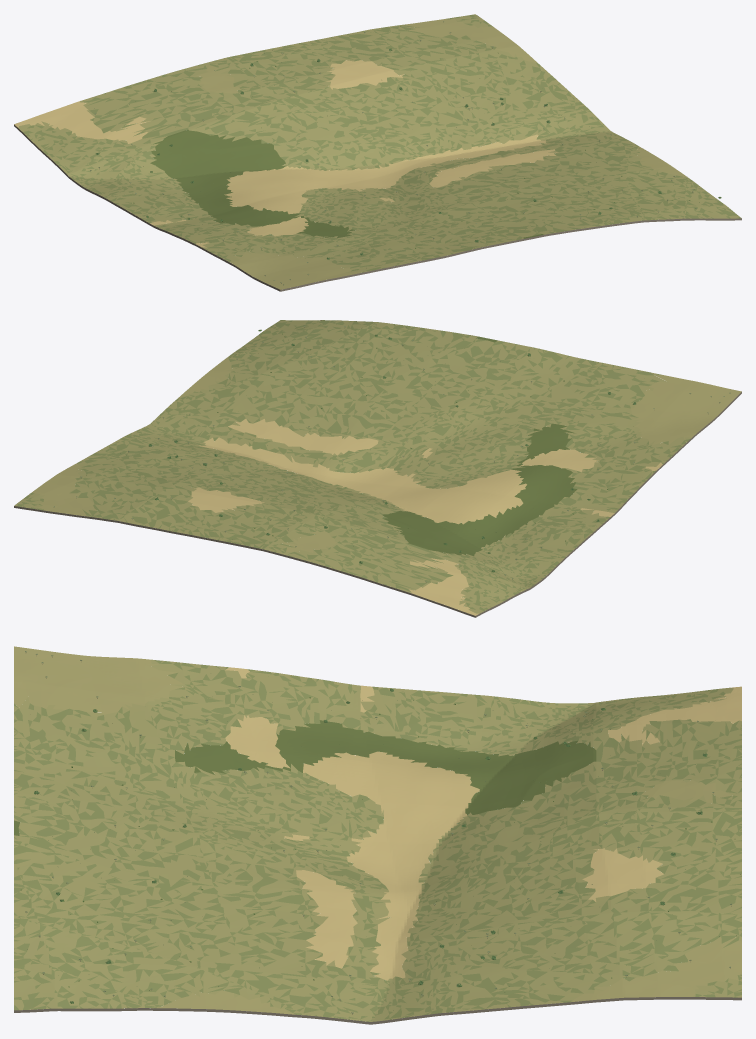
File: parca_+13_-4-yakin.glb
3 views of the same model, one above another, from view 1: azimuth 30°, elevation 25°; view 2: azimuth 150°, elevation 25°; view 3: azimuth 270°, elevation 25° (orthographic). The views are drawn at different scales.
Visible parts, largest first — view 1: parca_+13_-4_arazi, parca_+13_-4_bitkiler; view 2: parca_+13_-4_arazi, parca_+13_-4_bitkiler; view 3: parca_+13_-4_arazi, parca_+13_-4_bitkiler.
Boxes of the visible parts, box(x1,y1,x2,y2) form: parca_+13_-4_arazi: box(14, 14, 741, 291); parca_+13_-4_bitkiler: box(90, 21, 721, 285); parca_+13_-4_arazi: box(14, 320, 741, 617); parca_+13_-4_bitkiler: box(54, 324, 730, 582); parca_+13_-4_arazi: box(14, 646, 741, 1024); parca_+13_-4_bitkiler: box(21, 651, 740, 1014).
Bounding box in the file's own units: 1002 × 107 × 1000.
